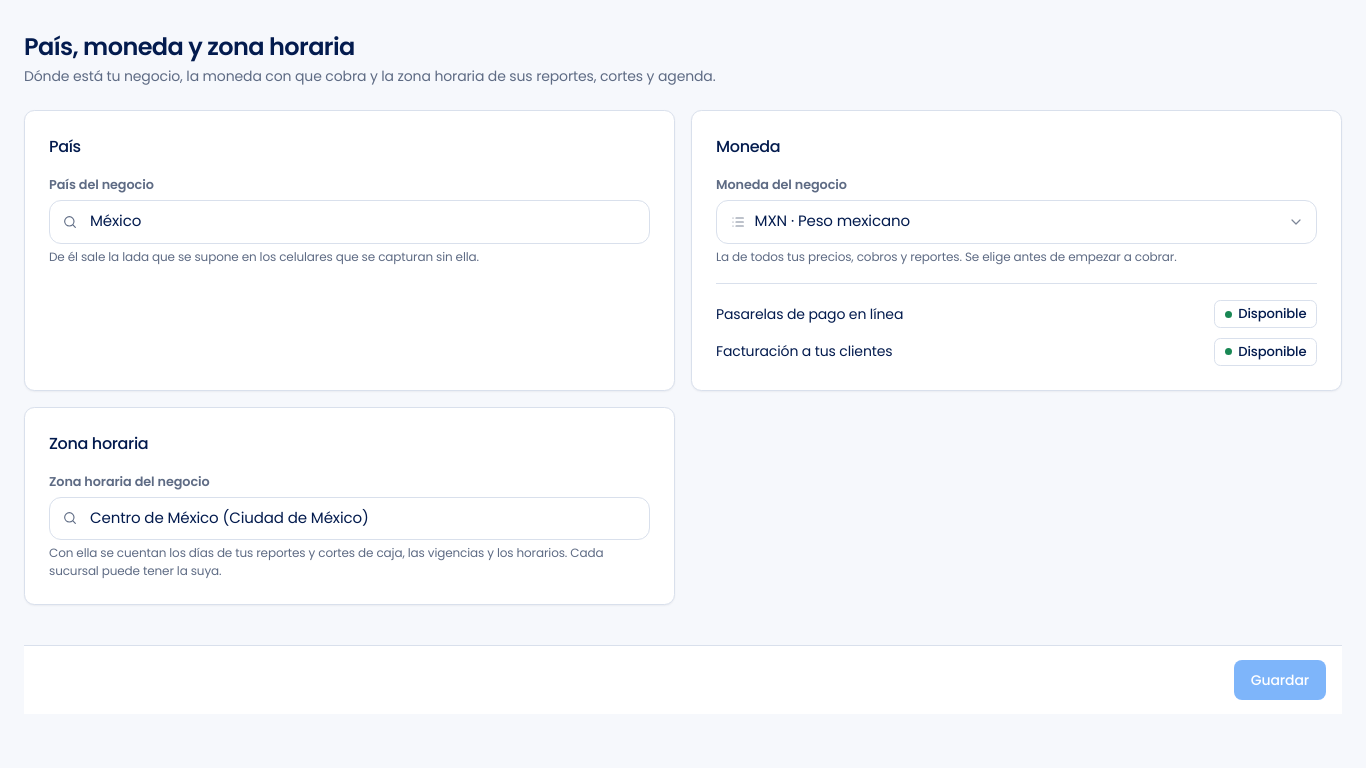
Test: país, moneda y zona horaria del negocio › muestra el país, la moneda y la zona, y qué funciona en pesos
Expected: the element that starts with "Pasarelas de pago en línea" shows "Disponible", [1238,304,1306,323]
# Al elegir otra moneda, ya dice que el cobro en línea y la factura no aplican.
Select "USD · Dólar estadounidense" in the dropdown labelled "Moneda del negocio" at {"x": 1016, "y": 222}, box [716,200,1317,244]
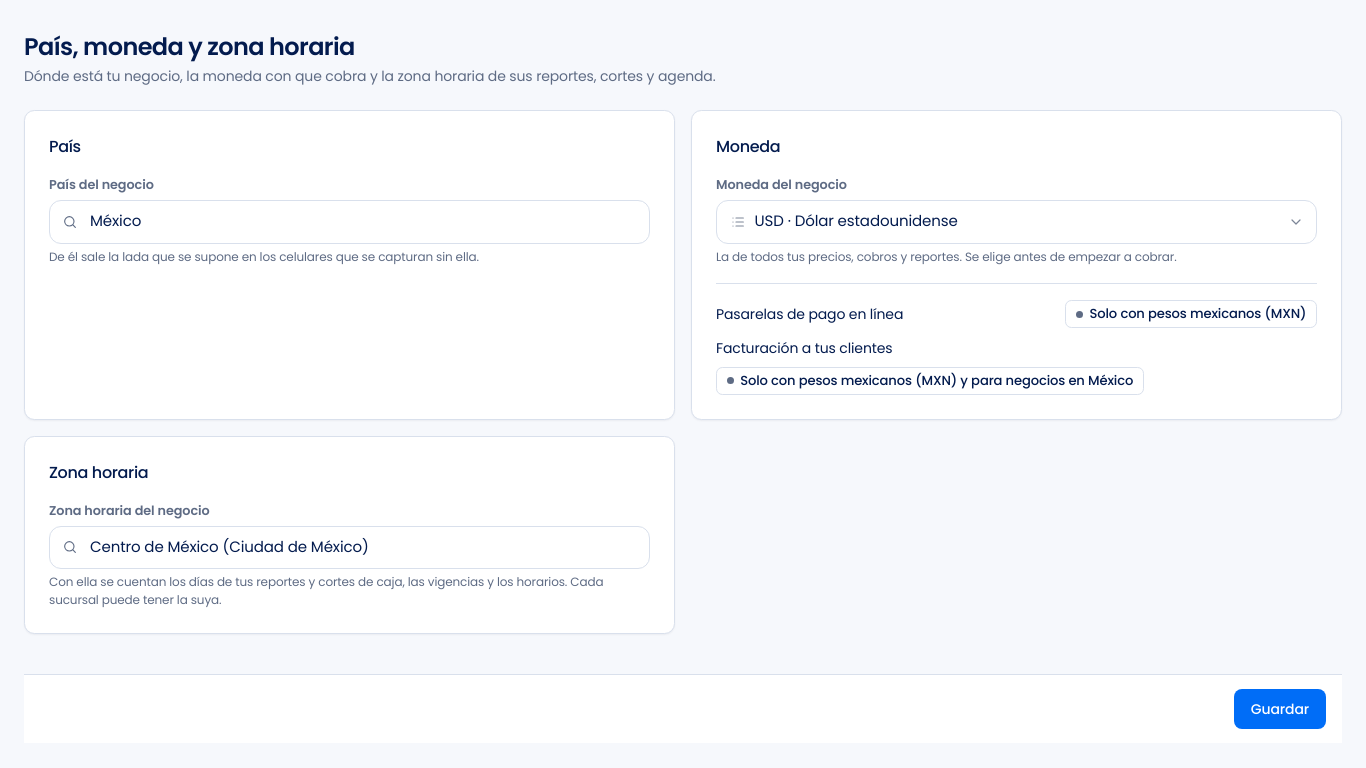
Result: the element that starts with "Pasarelas de pago en línea" shows "Solo con pesos mexicanos (MXN)" at [1090,304,1306,323]
Result: the element that starts with "Pasarelas de pago en línea" shows "y para negocios en México" at [740,371,1133,390]
